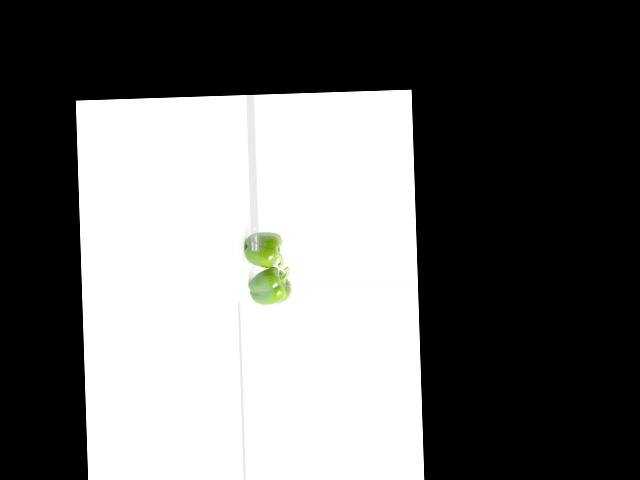bell_pepper: (242, 267, 294, 305)
